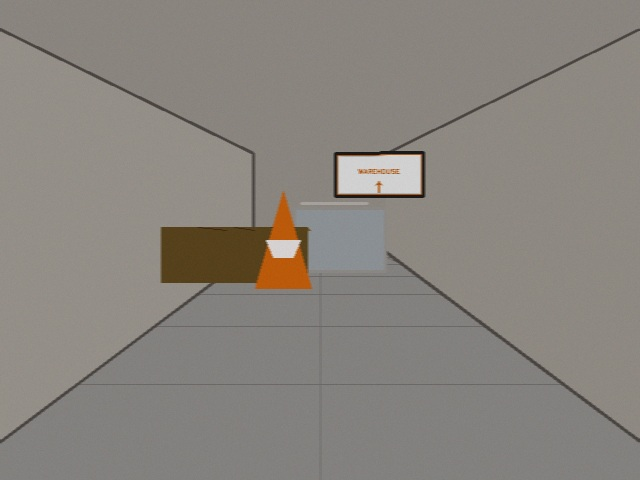directional_sign: (335, 152, 423, 196)
hospital_bed: (294, 208, 385, 271)
obstacle: (255, 191, 311, 288)
pallet: (161, 227, 310, 282)
